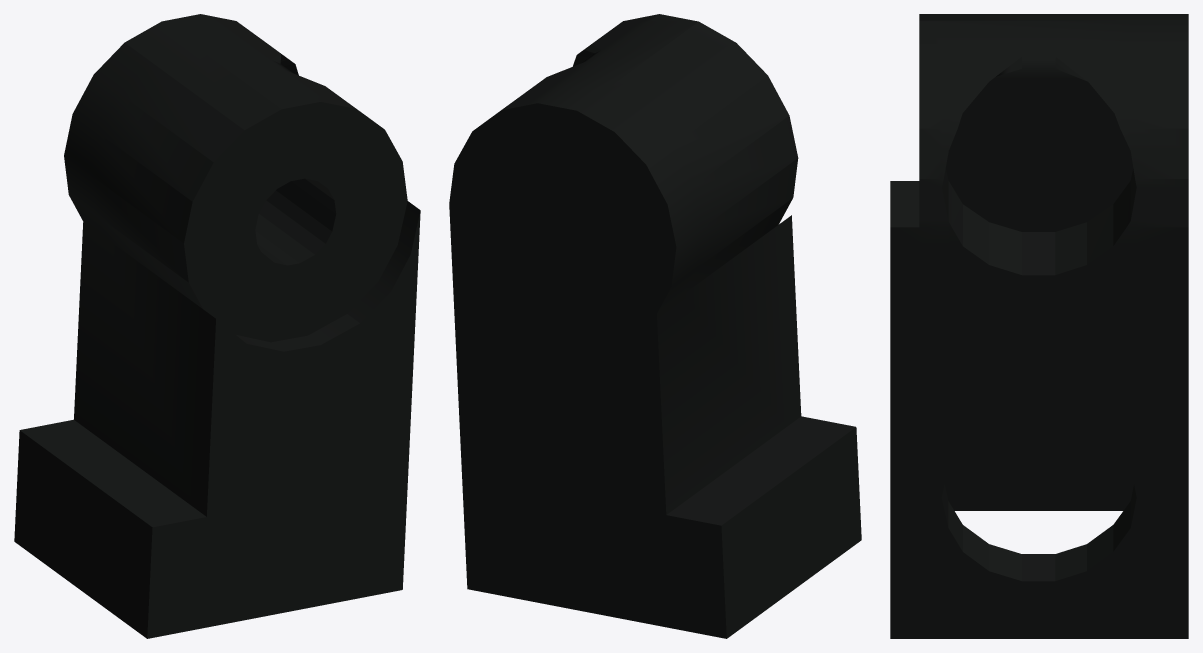
The model's file is piernader.obj.
The picture shows the model from 3 angles, left to right: view 1: azimuth 30°, elevation 25°; view 2: azimuth 150°, elevation 25°; view 3: azimuth 270°, elevation 25°; orthographic projection. The views are drawn at different scales.
Parts seen in each view (by area): view 1: Leg1; view 2: Leg1; view 3: Leg1.
Part boxes in pixels (box(x1,y1,x2,y2)): Leg1: box(14, 14, 420, 638); Leg1: box(449, 14, 861, 638); Leg1: box(890, 14, 1188, 638).
Bounding box in the file's own units: 21.71 × 37.76 × 18.29.
1 material, 1 textured.
